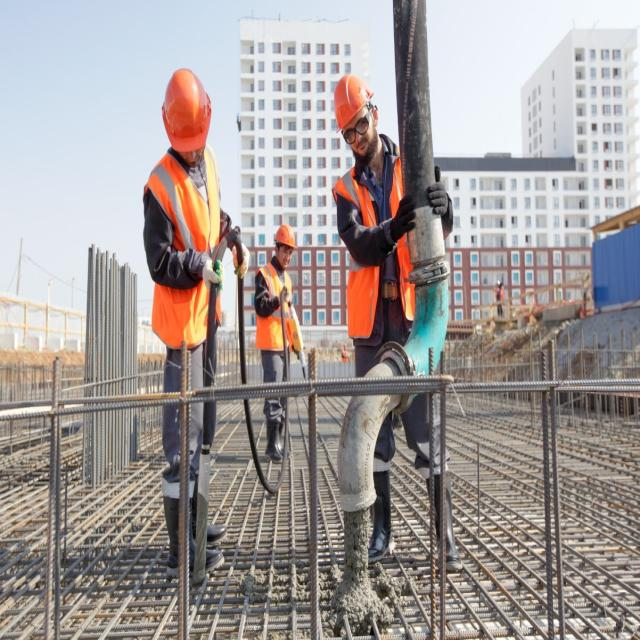Helmet: (162, 69, 216, 156), (334, 75, 376, 134), (274, 224, 298, 251)
Jacket: (161, 157, 222, 347), (349, 142, 409, 335), (258, 261, 292, 358)
